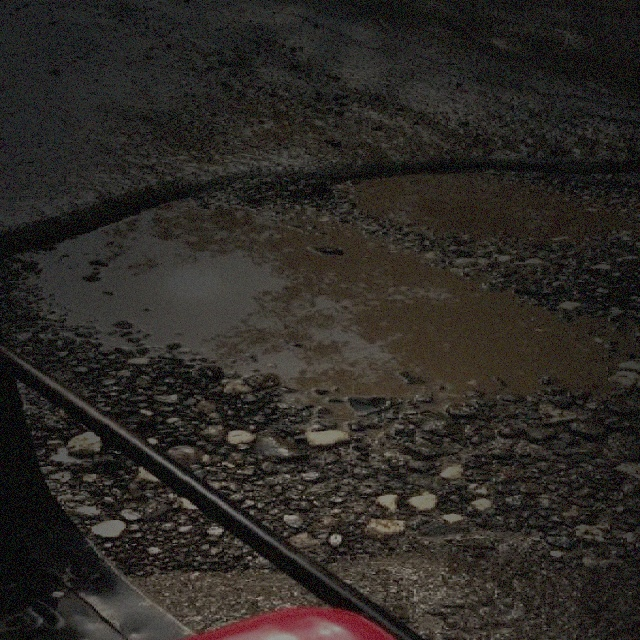pothole: (0, 154, 638, 436)
